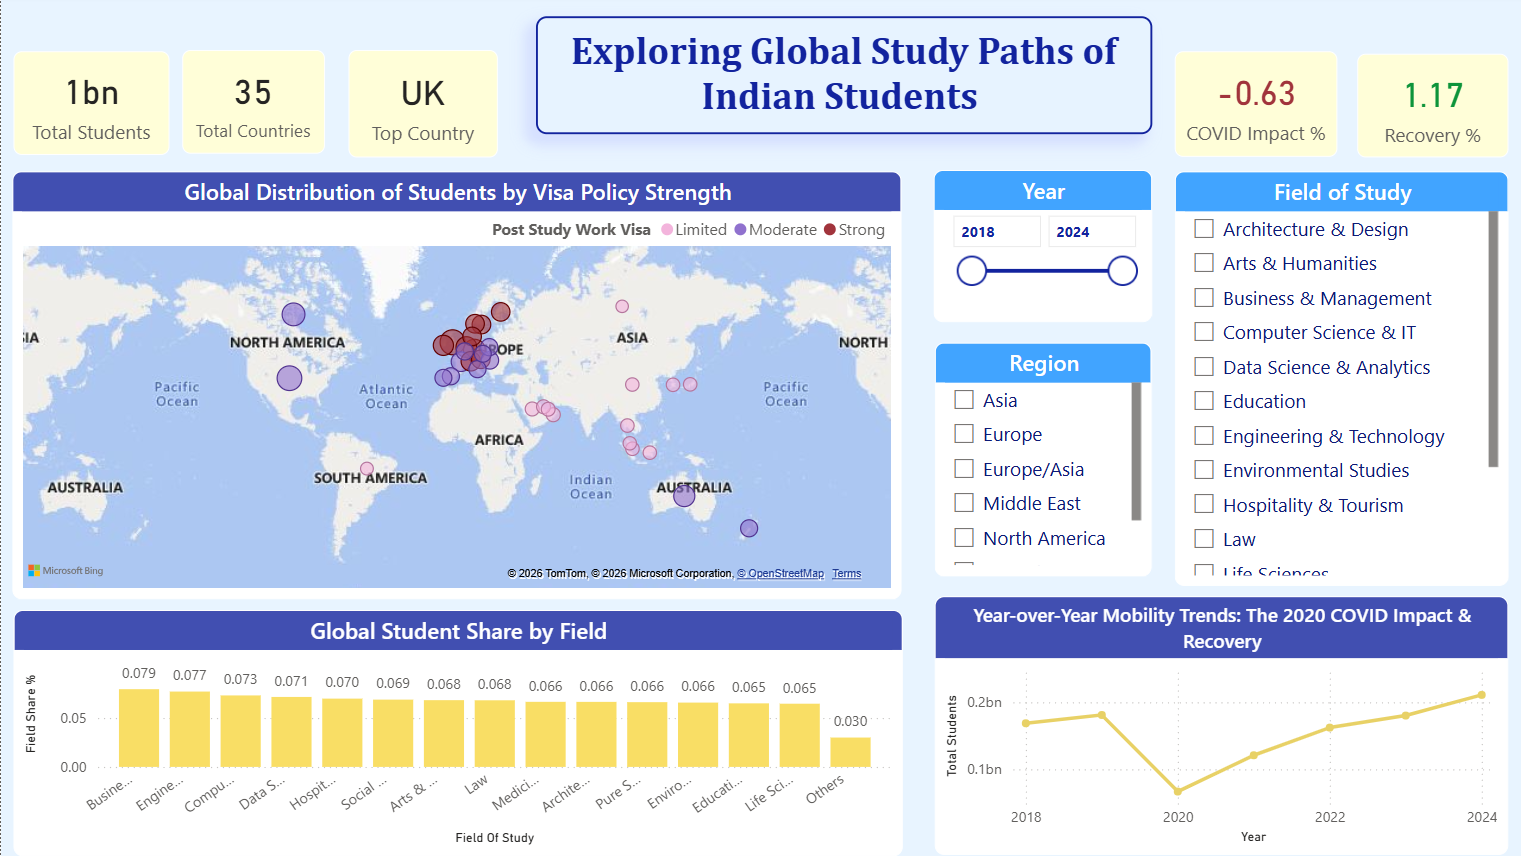

This screenshot's page, from the dashboard's own definition file:
{"tool":"powerbi","page":{"name":"Global Student Market Overview","canvas":[1280,720],"ordinal":0},"visuals":[{"type":"card","fields":{"Values":["cp1_clean.Total Students"]},"box":[10.5,43,131.4,87.2],"z":0},{"type":"card","fields":{"Values":["Countries.Total Countries"]},"box":[152.3,41.9,119.8,87.2],"z":1000},{"type":"map","title":"Global Distribution of Students by Visa Policy Strength","fields":{"Category":["Countries.Country"],"Series":["Countries.Post Study Work Visa"],"Size":["cp1_clean.Total Students"]},"box":[9.7,143.5,748.4,359.7],"z":2000},{"type":"clusteredColumnChart","title":"Global Student Share by Field","fields":{"Category":["Fields.Field_of_Study"],"Y":["Countries.Field Share %"]},"box":[10.5,512.8,747.7,207],"z":3000},{"type":"lineChart","title":"Year-over-Year Mobility Trends: The 2020 COVID Impact & Recovery","fields":{"Category":["cp1_clean.Year"],"Y":["cp1_clean.Total Students"]},"box":[785.5,501.6,482.3,217.7],"z":4000},{"type":"slicer","title":"Region","fields":{"Values":["Countries.Region"]},"box":[784.9,288.4,182.6,196.5],"z":5000},{"type":"slicer","title":"Field of Study","fields":{"Values":["Fields.Field_of_Study"]},"box":[987.3,144,280.7,349.1],"z":6000},{"type":"slicer","title":"Year","fields":{"Values":["cp1_clean.Year"]},"box":[784.3,143,184,128.3],"z":7000},{"type":"card","fields":{"Values":["cp1_clean.Recovery %"]},"box":[1140.3,45.2,127.4,87.1],"z":8000},{"type":"card","fields":{"Values":["Countries.Top Country"]},"box":[291.9,41.9,125.8,90.3],"z":9000},{"type":"card","fields":{"Values":["Countries.COVID Impact %"]},"box":[987.1,43.5,137.1,88.7],"z":10000},{"type":"textbox","box":[450,14,518.6,98.8],"z":11000}]}

Visuals, with their boxes in screenshot pixels (x1, y1, x2, y2), scaled from the page's 1280x720 canvas onto the 1521x856 screenshot:
card - cp1_clean.Total Students: pyautogui.locateOnScreen(12, 51, 169, 155)
card - Countries.Total Countries: pyautogui.locateOnScreen(181, 50, 323, 153)
"Global Distribution of Students by Visa Policy Strength" map: pyautogui.locateOnScreen(12, 171, 901, 598)
"Global Student Share by Field" clusteredColumnChart: pyautogui.locateOnScreen(12, 610, 901, 855)
"Year-over-Year Mobility Trends: The 2020 COVID Impact & Recovery" lineChart: pyautogui.locateOnScreen(933, 596, 1507, 855)
"Region" slicer: pyautogui.locateOnScreen(933, 343, 1150, 576)
"Field of Study" slicer: pyautogui.locateOnScreen(1173, 171, 1507, 586)
"Year" slicer: pyautogui.locateOnScreen(932, 170, 1151, 323)
card - cp1_clean.Recovery %: pyautogui.locateOnScreen(1355, 54, 1506, 157)
card - Countries.Top Country: pyautogui.locateOnScreen(347, 50, 496, 157)
card - Countries.COVID Impact %: pyautogui.locateOnScreen(1173, 52, 1336, 157)
textbox: pyautogui.locateOnScreen(535, 17, 1151, 134)
